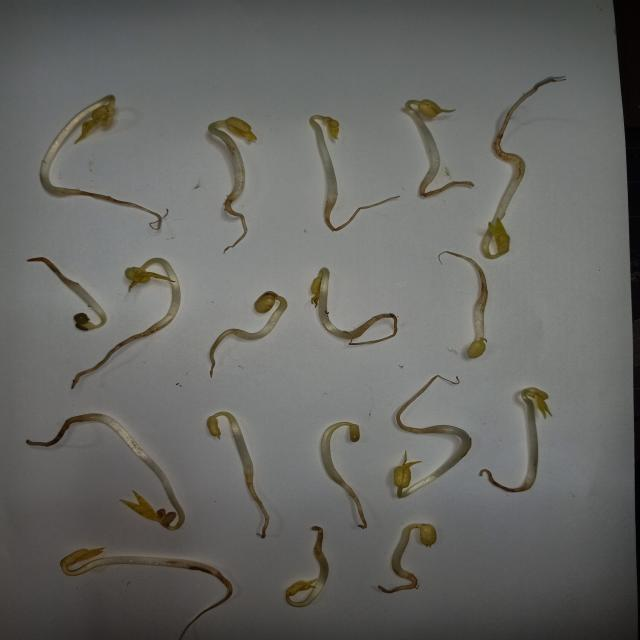leaf: (122, 493, 171, 525), (406, 99, 456, 120), (85, 102, 115, 137), (487, 220, 514, 253), (225, 118, 258, 144), (52, 547, 97, 564), (526, 388, 551, 418), (389, 458, 415, 486), (254, 293, 277, 314), (281, 577, 309, 594), (301, 275, 319, 300), (70, 312, 95, 330), (324, 115, 340, 140), (419, 523, 437, 545), (208, 417, 222, 438), (348, 423, 361, 442)
root: (478, 70, 575, 152), (76, 187, 172, 234), (381, 379, 436, 439), (432, 258, 496, 302), (29, 411, 92, 450), (98, 331, 182, 358), (245, 469, 271, 539), (220, 198, 250, 257), (209, 327, 244, 377), (22, 253, 80, 281), (349, 313, 398, 343), (417, 177, 479, 199), (336, 483, 366, 527), (310, 522, 337, 567), (215, 566, 237, 615), (378, 567, 418, 593), (324, 199, 352, 231), (487, 482, 542, 498), (466, 341, 485, 358)
stem: (94, 410, 186, 532), (41, 95, 117, 196), (480, 154, 525, 258), (47, 553, 213, 579), (499, 386, 542, 482), (126, 261, 180, 329), (313, 268, 365, 334), (208, 119, 243, 198), (404, 102, 439, 177), (437, 421, 471, 488), (212, 410, 251, 468), (312, 115, 338, 201), (285, 568, 335, 612), (64, 282, 108, 328), (323, 421, 357, 480), (245, 296, 288, 341), (444, 303, 489, 343), (393, 522, 425, 568)
